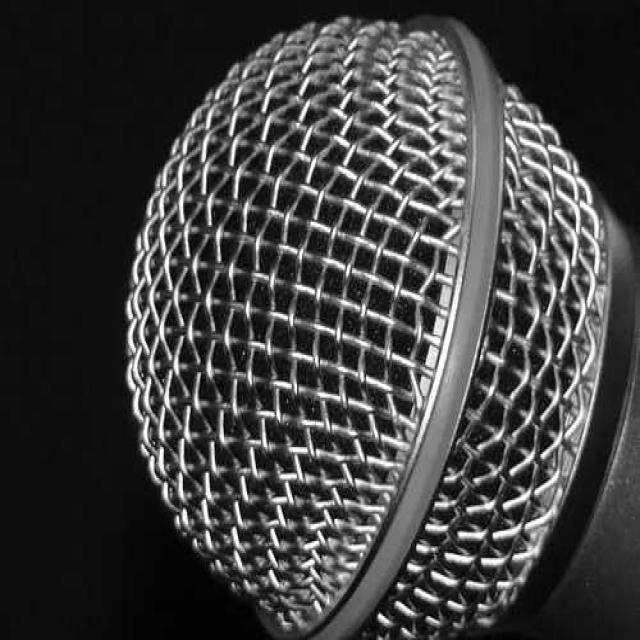microphone: (128, 14, 634, 636)
